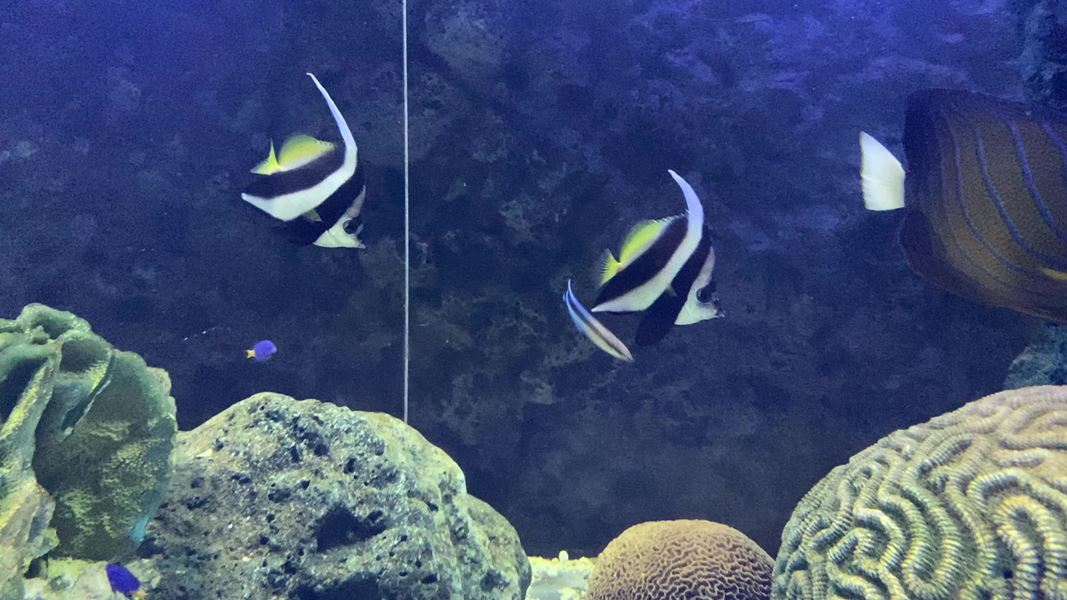Bluesteak cleaner wrasse: (556, 274, 641, 368)
